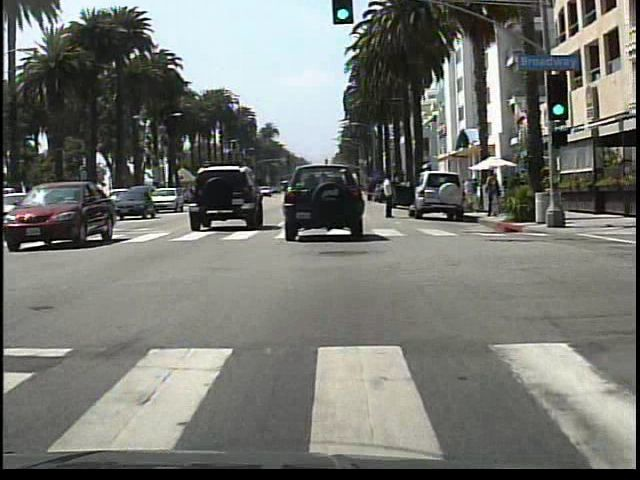person: (378, 168, 401, 223)
